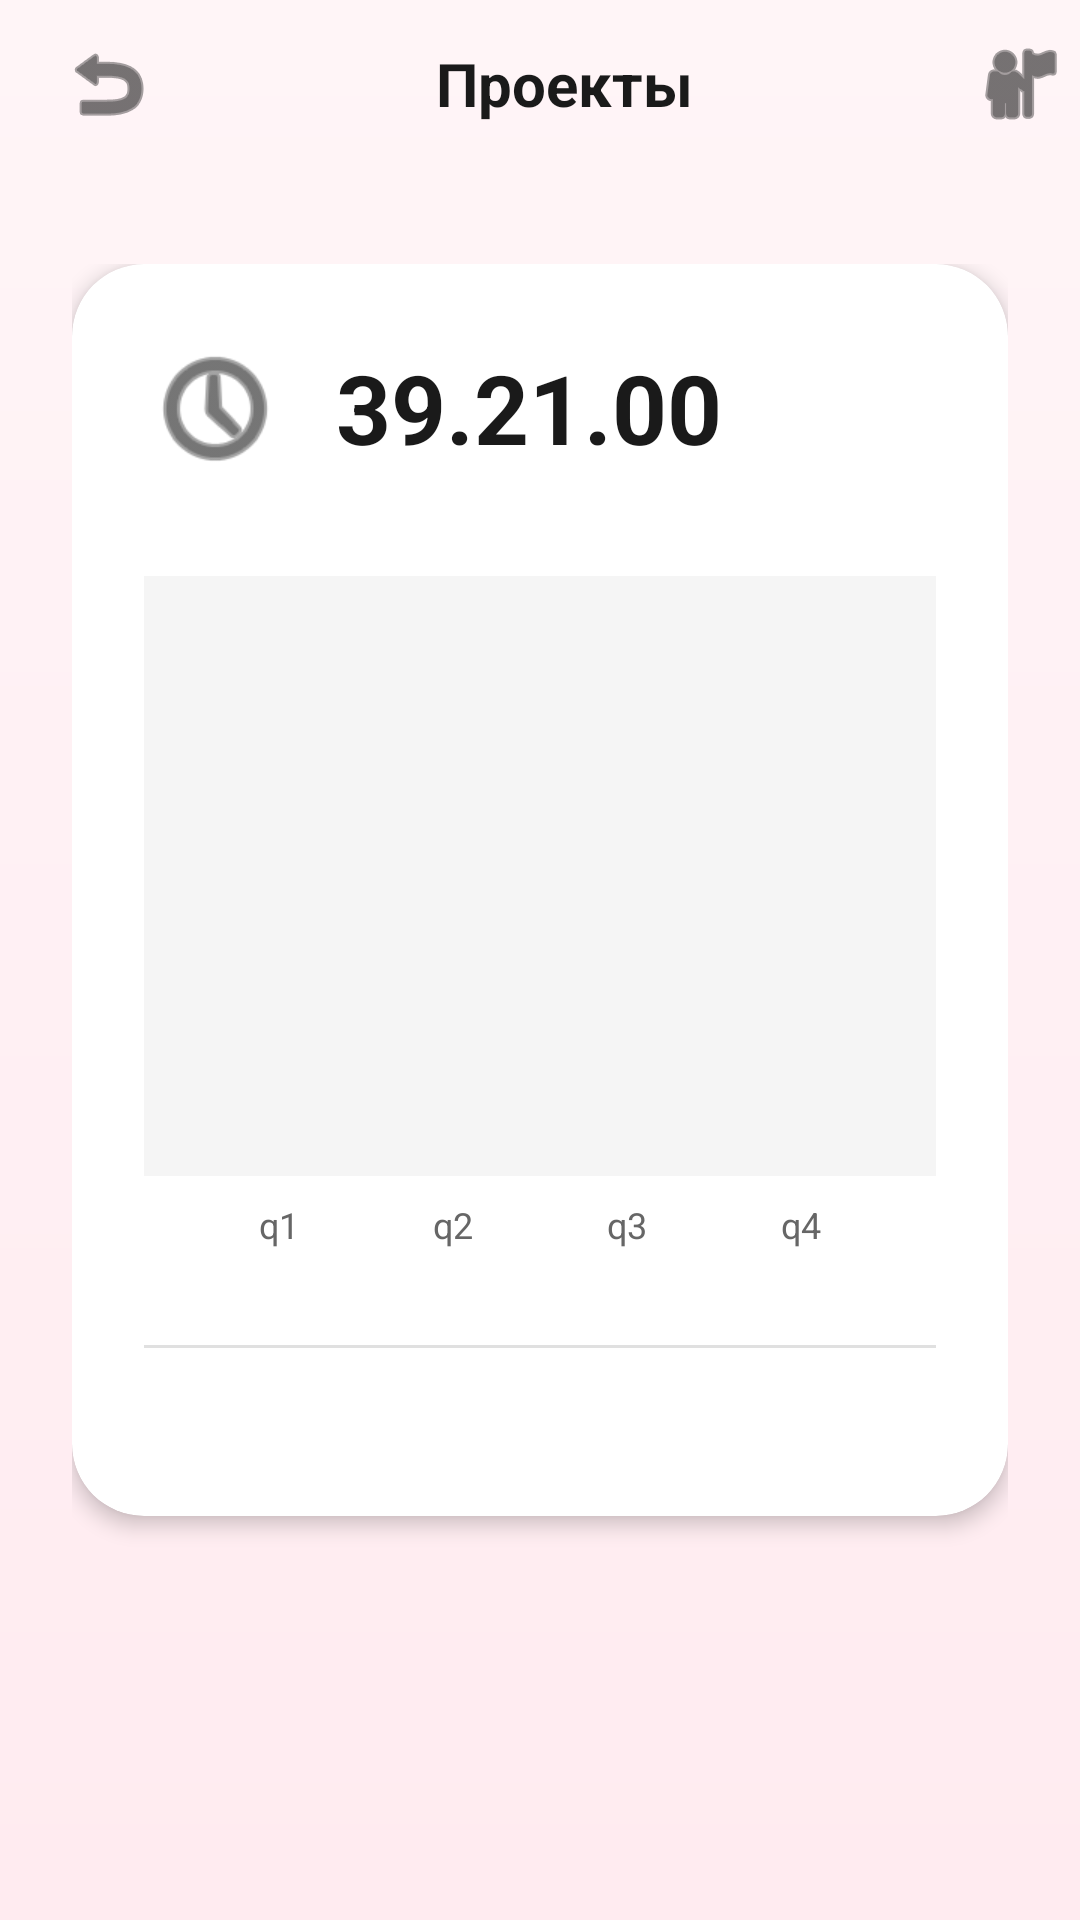

Named icons in this screenshot (1080px x 1920px) and their bounding boxes, (x1, y1, x2, y2):
Back: (75, 53, 144, 116)
recent history: (163, 357, 267, 461)
